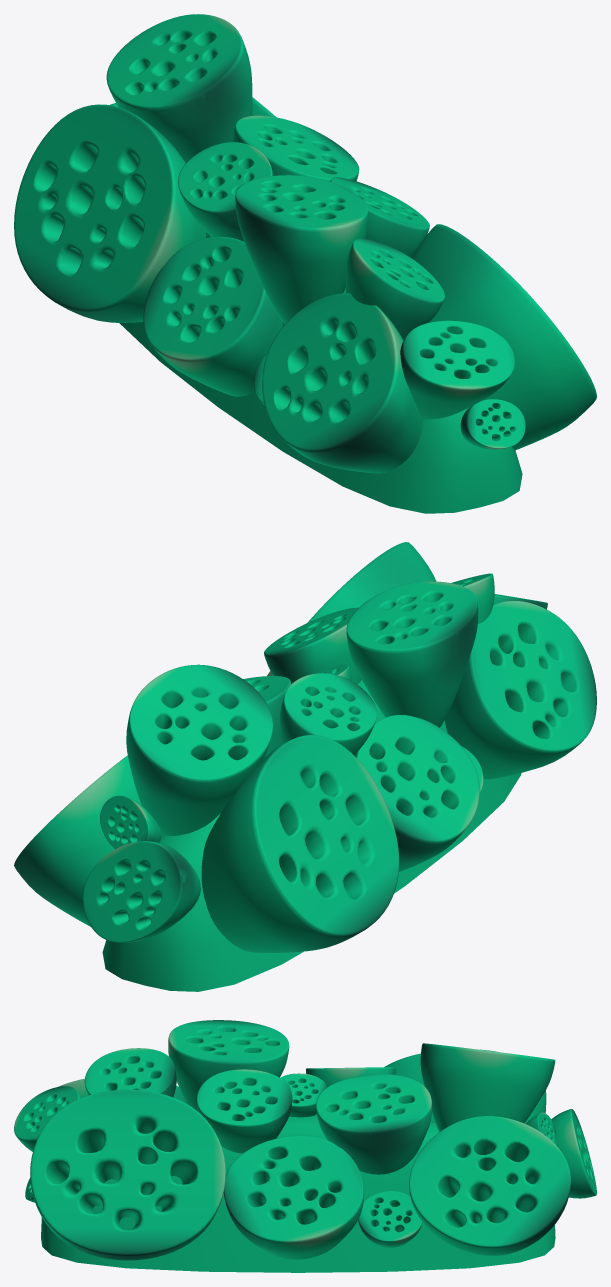
Rendered from Plante Base D.glb.
3 views of the same model, one above another, from view 1: azimuth 30°, elevation 25°; view 2: azimuth 150°, elevation 25°; view 3: azimuth 270°, elevation 25° (orthographic). The views are drawn at different scales.
Visible parts, largest first — view 1: Cube.005; view 2: Cube.005; view 3: Cube.005.
Part boxes in pixels (x1,y1,x2,y2): Cube.005: (14,14,596,513); Cube.005: (14,542,596,991); Cube.005: (14,1020,596,1272).
Size of the model in its own units: 1.92 by 1.6 by 4.02.
20 materials, 19 textured.
